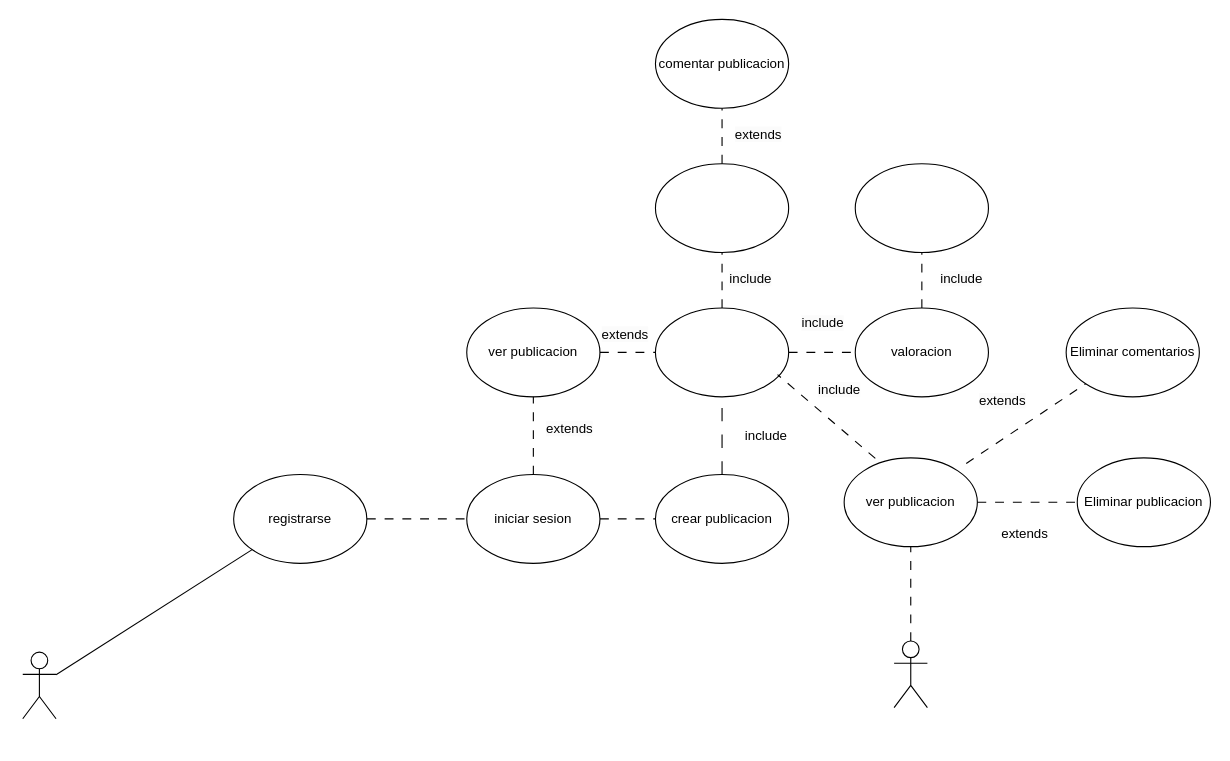
Some shapes in this 1230 by 761 pixel diagram are drawn without their labels. Here are the shapes that lost their labels. From the top down, the centre of each, then its label:
pixel 721 208: comentarios
pixel 921 208: retirar valoracion
pixel 721 352: publicacion
pixel 39 685: Cliente
pixel 910 674: Admin
